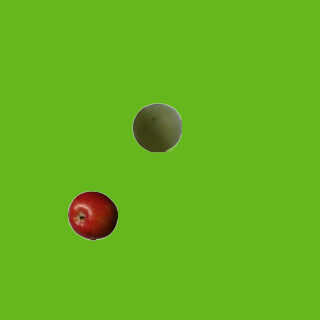Apple Braeburn: (67, 190, 117, 240)
Grape White 4: (131, 102, 181, 152)
